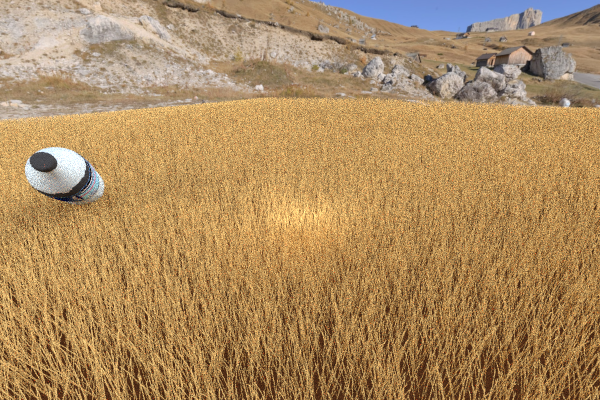Plastic Bottle: (329, 251, 600, 400), (25, 147, 104, 205), (181, 110, 204, 130)
